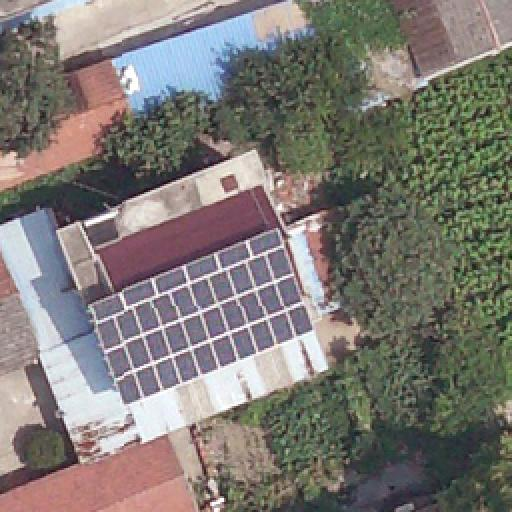solar-panel: (92, 226, 314, 406)
